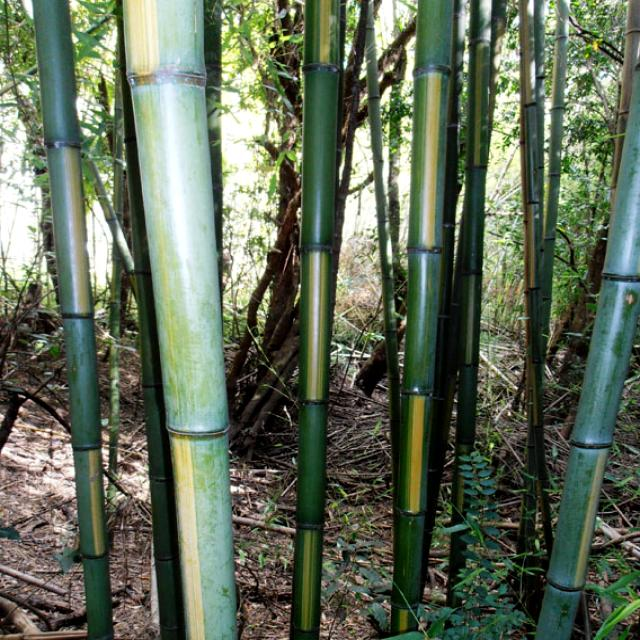Running: (4, 1, 640, 640)
